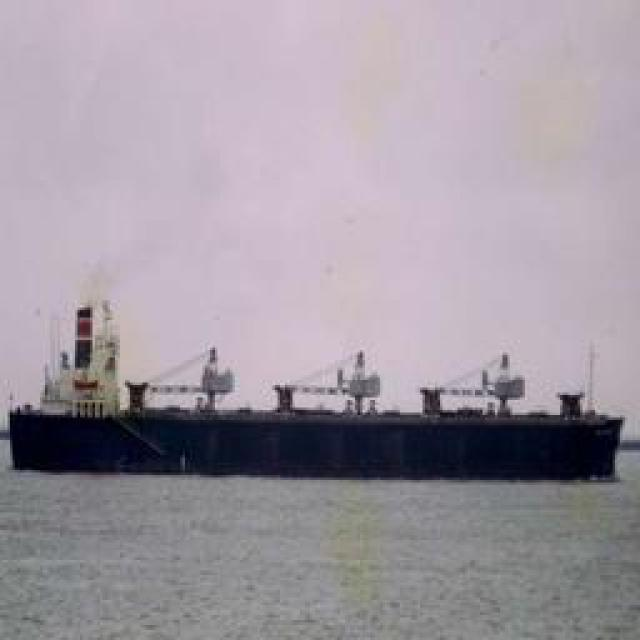Ship: (105, 345, 625, 463)
